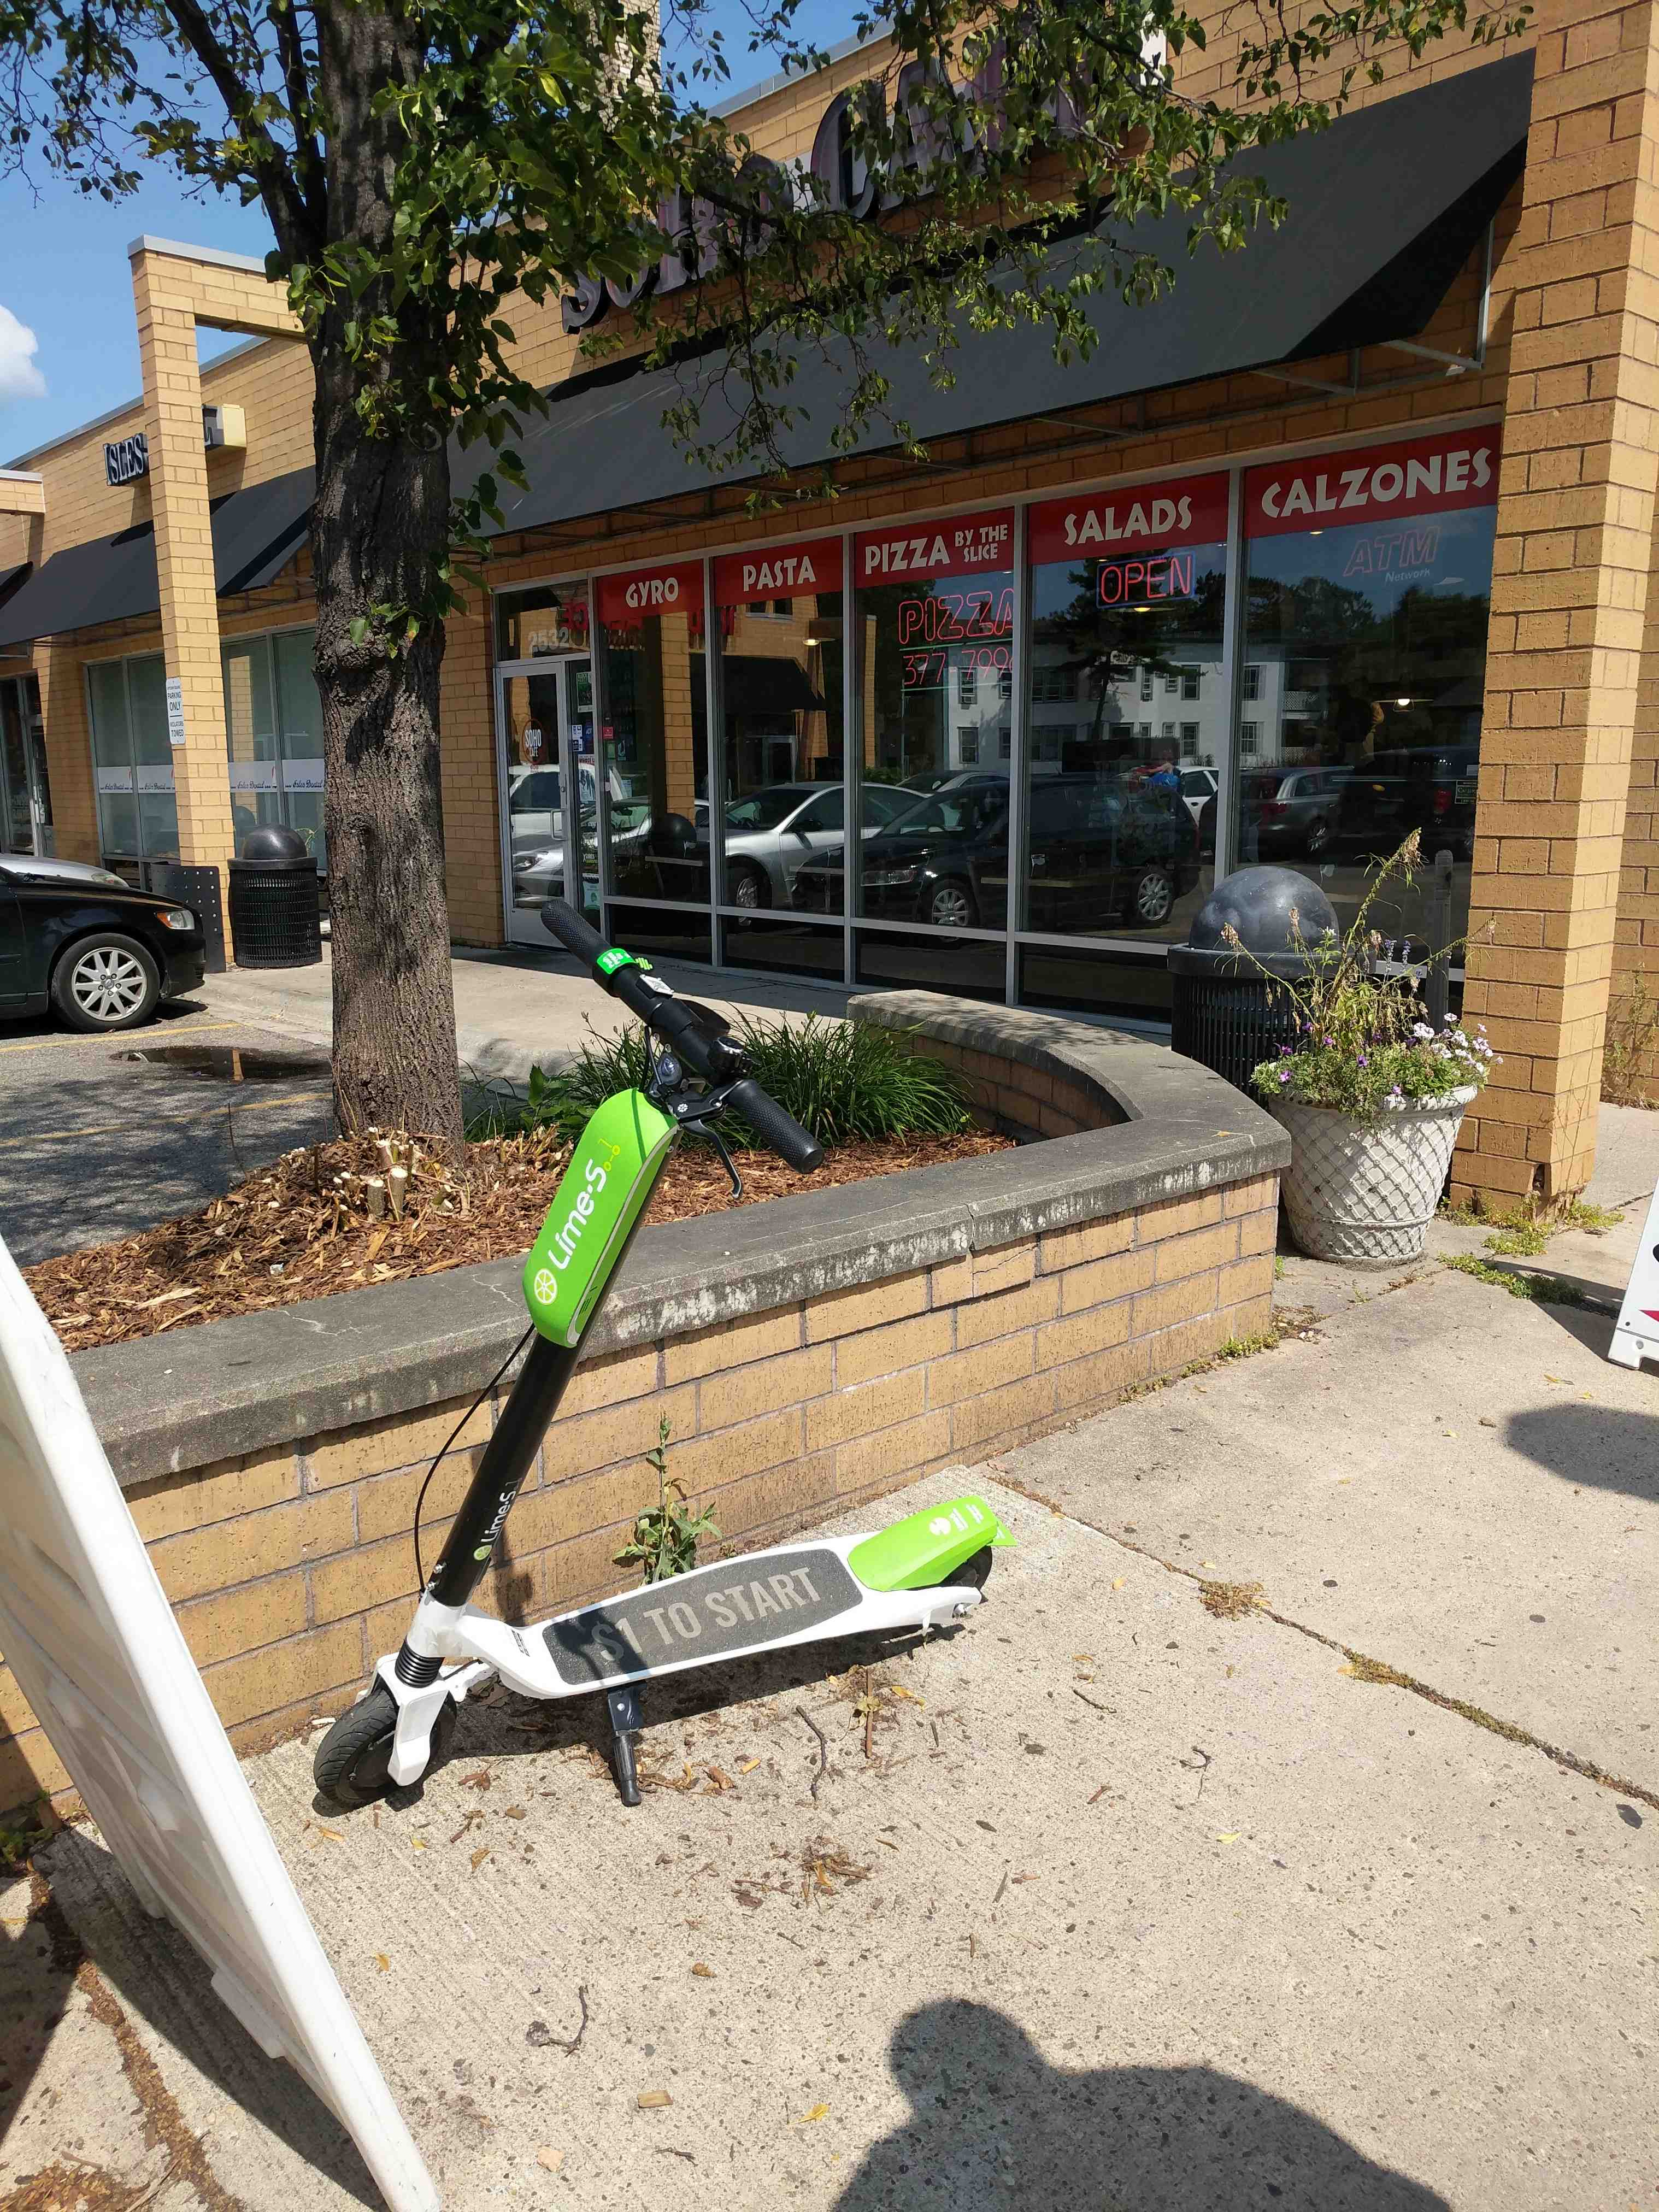scooter: (349, 888, 1053, 1846)
